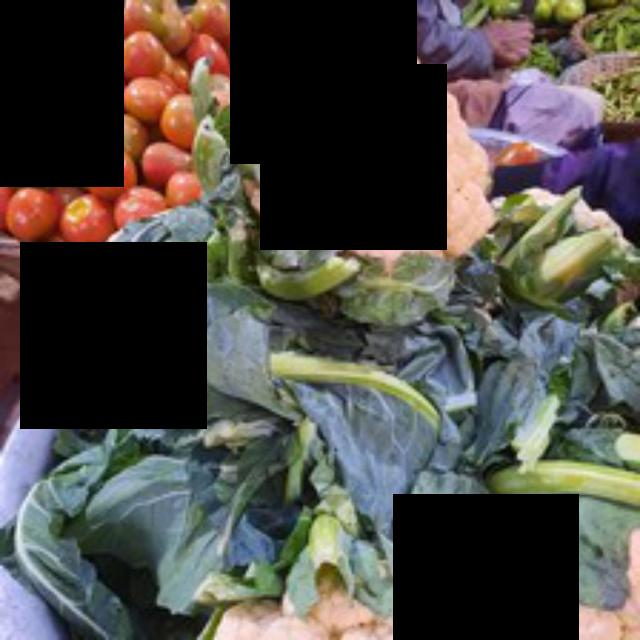cauliflower: (227, 26, 515, 291)
